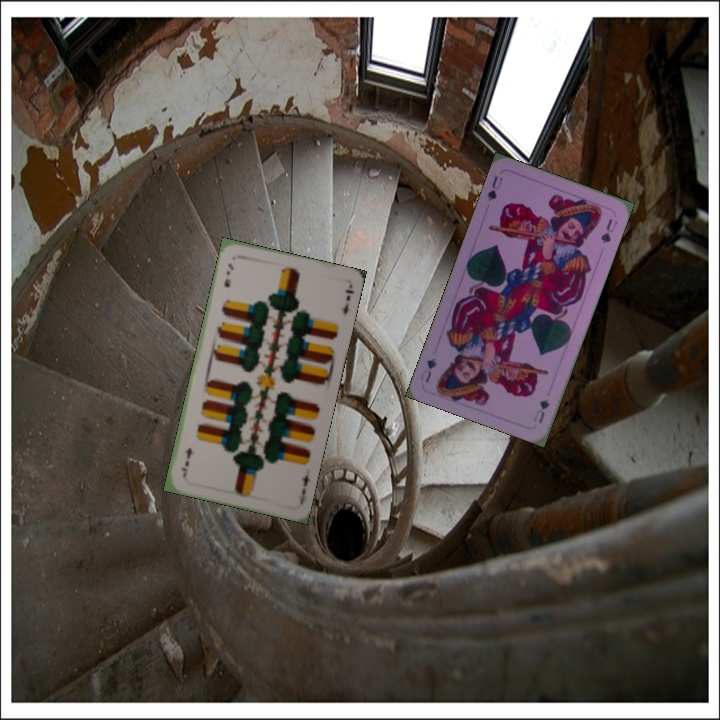E7: (220, 259, 237, 290), (298, 470, 313, 498)
GU: (483, 172, 506, 204), (530, 394, 552, 426)
